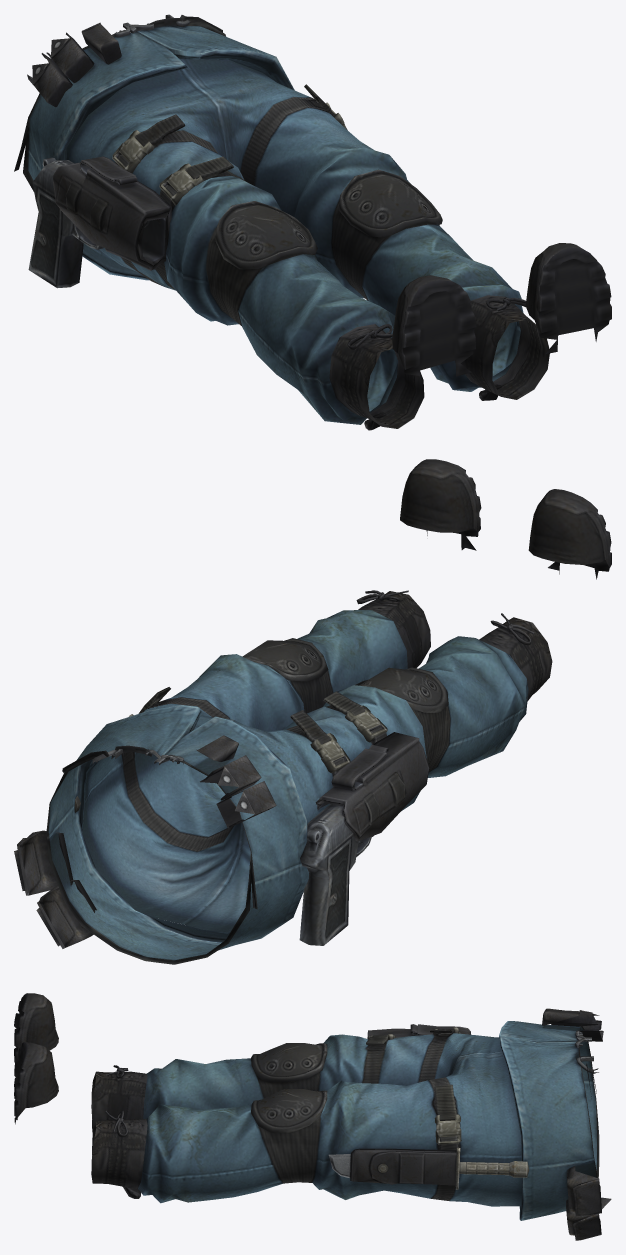
Rendered from pickup_soldier_legs.glb.
The picture shows the model from 3 angles, top to bottom: view 1: azimuth 30°, elevation 25°; view 2: azimuth 150°, elevation 25°; view 3: azimuth 270°, elevation 25°; orthographic projection. The views are drawn at different scales.
Visible parts, largest first — view 1: soldier_legs; view 2: soldier_legs; view 3: soldier_legs.
Part boxes in pixels (x1,y1,x2,y2): soldier_legs: (14,14,611,430); soldier_legs: (14,459,611,964); soldier_legs: (14,993,611,1240).
Bounding box in the file's own units: 0.9857 × 0.7997 × 2.3.
1 material, 1 textured.
